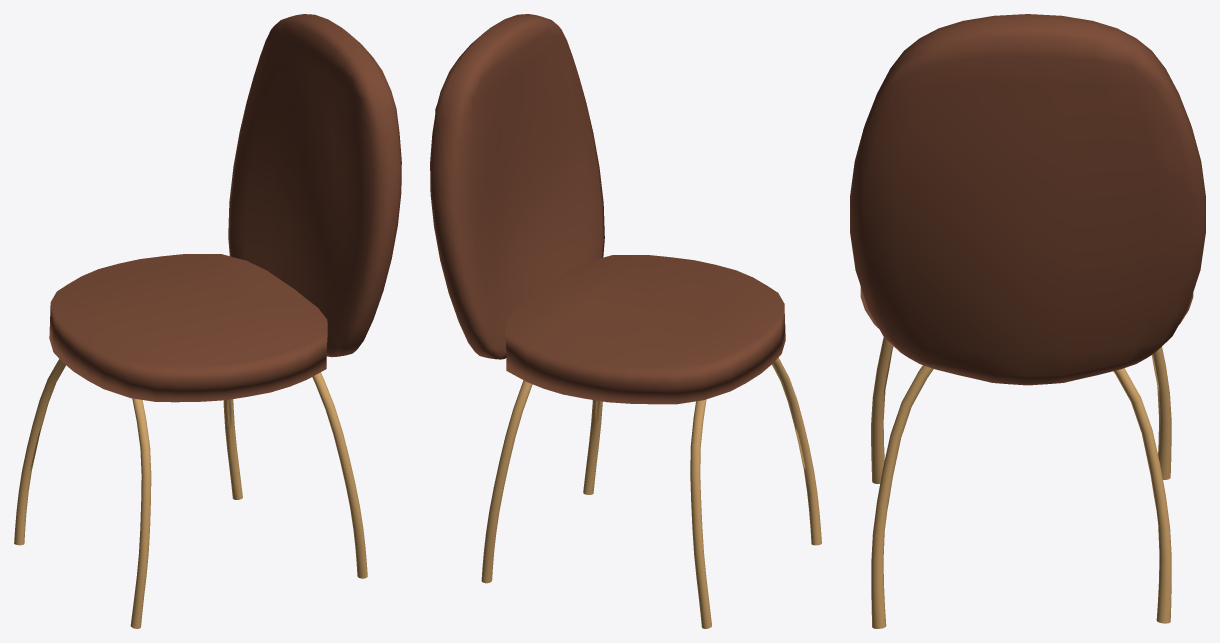
Rendered from BasicChairCenterPivot.fbx.
3 views of the same model, side by side, from view 1: azimuth 30°, elevation 25°; view 2: azimuth 150°, elevation 25°; view 3: azimuth 270°, elevation 25° (orthographic). The views are drawn at different scales.
Visible parts, largest first — view 1: seat; view 2: seat; view 3: seat.
Boxes of the visible parts, x1,y1,x2,y2 form: seat: (14,14,401,628); seat: (430,14,821,628); seat: (850,14,1205,628).
Bounding box in the file's own units: 368 × 616 × 316.
